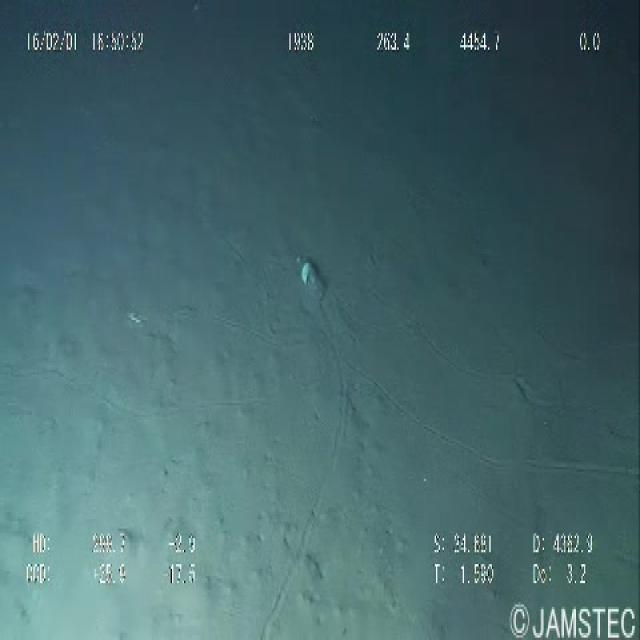plastic: (290, 244, 346, 313)
